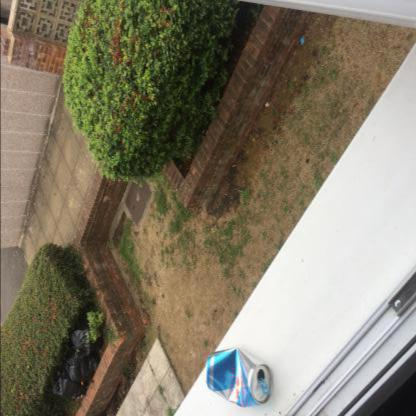Can: (205, 346, 273, 407)
Plastic bag - wrapper: (64, 350, 100, 383), (53, 366, 89, 399), (70, 324, 104, 358)
Pop tab: (258, 378, 270, 395)
